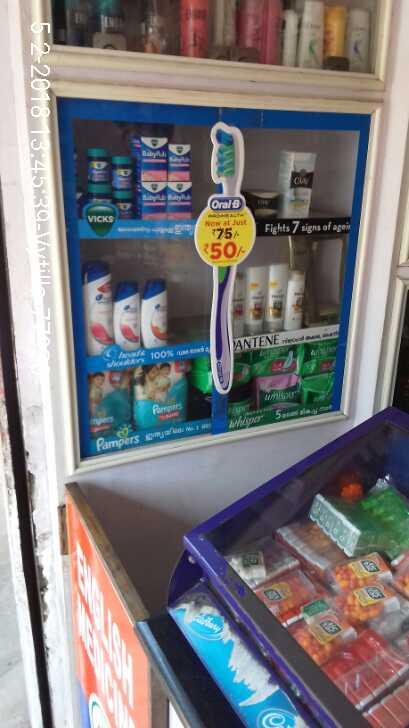vicks: (83, 133, 192, 221)
